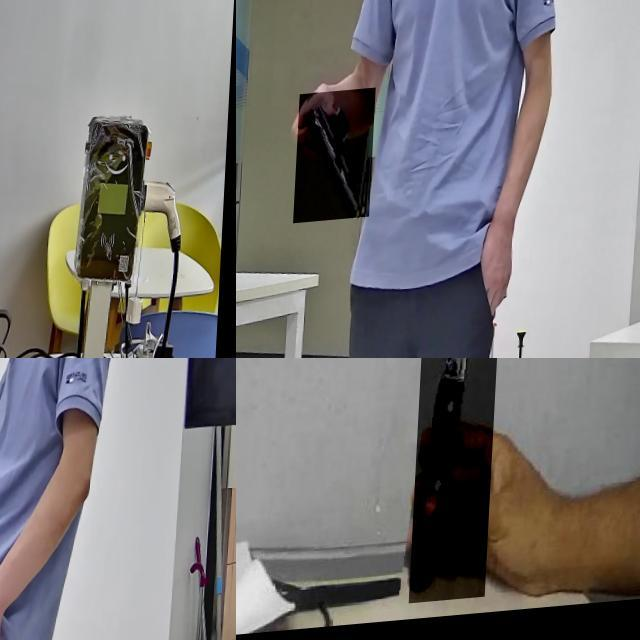-: (415, 358, 510, 609)
gun-knife-thesis - v11 Yolov5 augmented: (296, 92, 378, 226), (0, 358, 24, 494), (0, 0, 19, 49)
